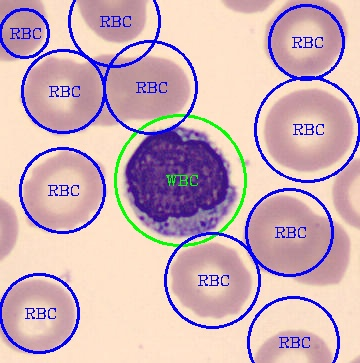RBC: (261, 86, 354, 174), (20, 145, 109, 234), (262, 0, 349, 80), (18, 54, 101, 137), (167, 239, 252, 320), (242, 192, 316, 277), (100, 53, 192, 121), (0, 278, 77, 357), (281, 213, 352, 288), (75, 52, 133, 127), (70, 0, 150, 44)
WBC: (120, 123, 236, 239)
